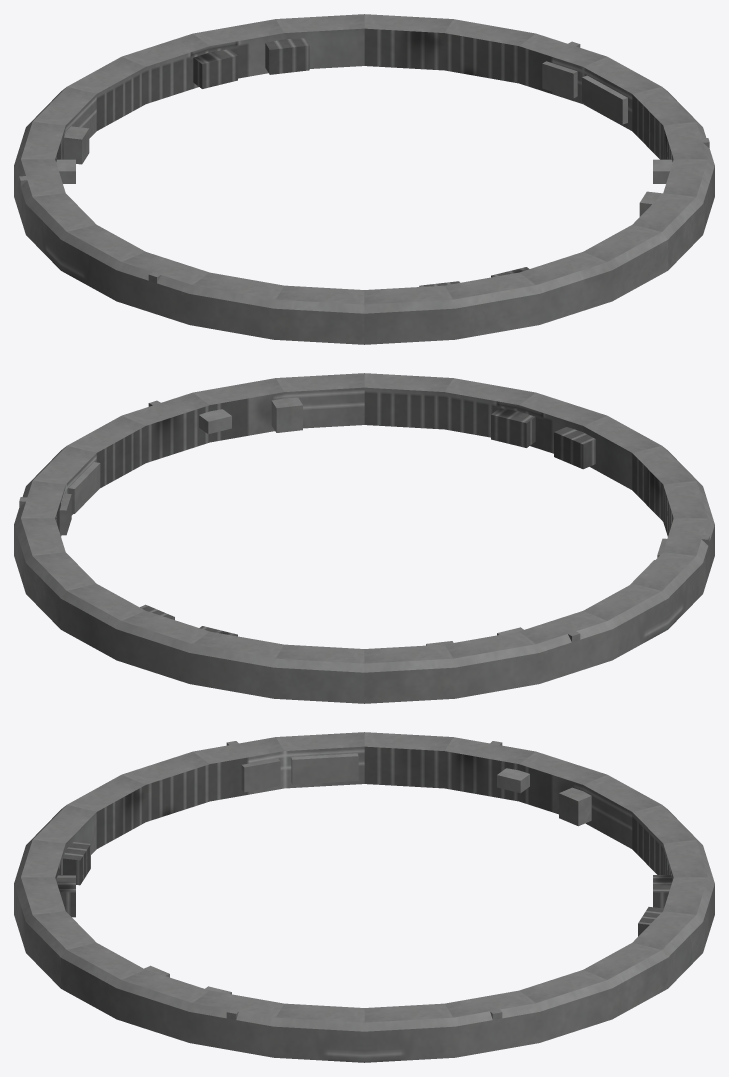
File: control core zarya.obj
The picture shows the model from 3 angles, top to bottom: view 1: azimuth 30°, elevation 25°; view 2: azimuth 150°, elevation 25°; view 3: azimuth 270°, elevation 25°; orthographic projection.
Parts seen in each view (by area): view 1: 1; view 2: 1; view 3: 1.
Part boxes in pixels (x1,y1,x2,y2): 1: (14,14,714,344); 1: (14,373,714,703); 1: (14,732,714,1062).
Size of the model in its own units: 2.55 by 0.15 by 2.55.
